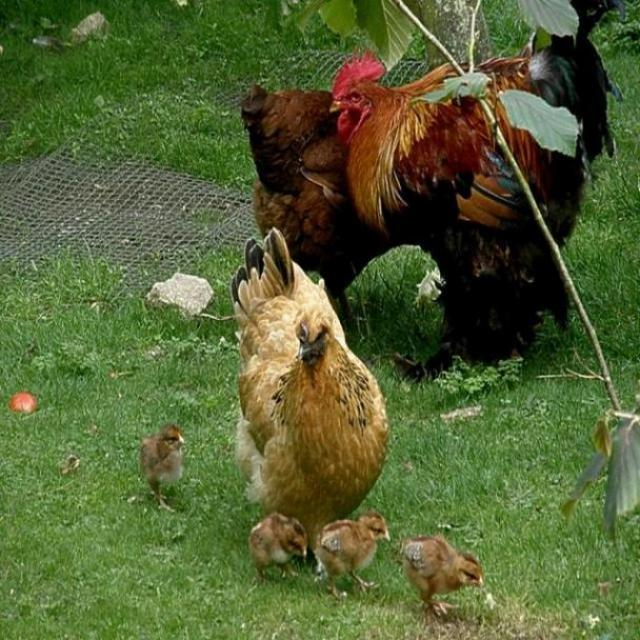Chicken: (328, 0, 625, 365), (226, 225, 397, 561), (237, 81, 397, 324), (312, 510, 390, 599), (402, 535, 483, 616), (140, 422, 186, 511), (250, 512, 306, 581)
